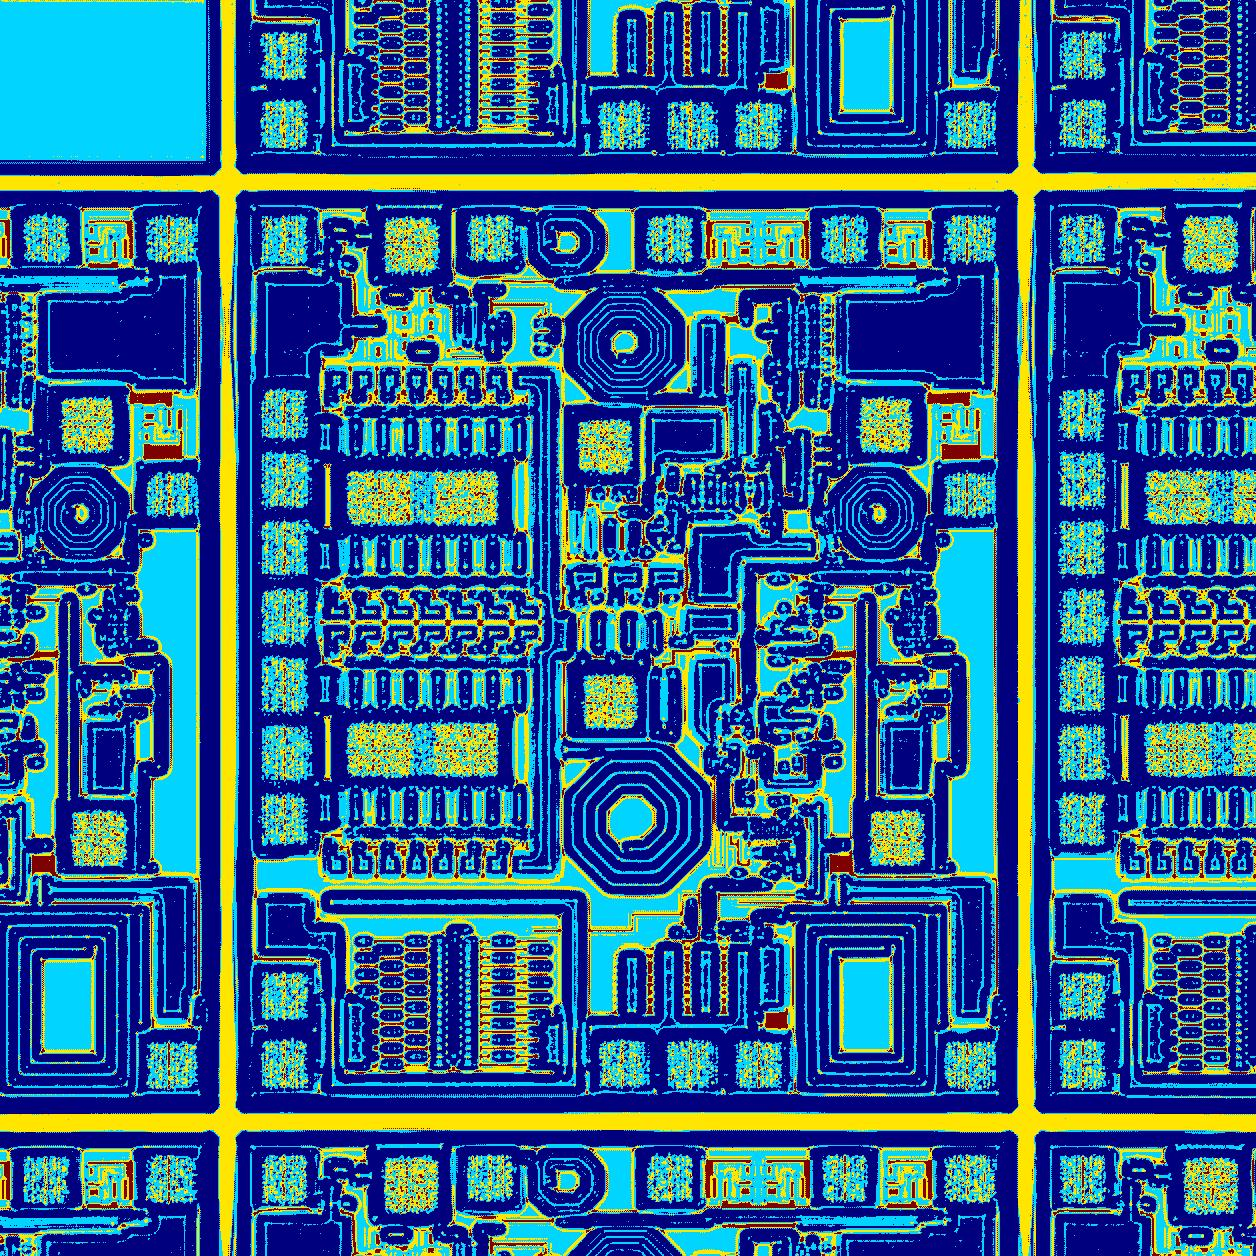Die: (235, 189, 1019, 1112)
Pad 1: (347, 722, 414, 778), (434, 722, 498, 778), (434, 472, 498, 527), (349, 472, 414, 524), (583, 674, 637, 730), (871, 811, 925, 866), (385, 216, 438, 273), (859, 397, 912, 453), (579, 420, 633, 473)
Pad 2: (262, 725, 313, 781), (261, 452, 308, 508), (261, 656, 308, 712), (262, 589, 309, 644), (599, 1040, 651, 1088), (262, 521, 308, 575), (667, 1041, 718, 1089), (261, 794, 308, 845), (945, 1042, 997, 1089), (945, 215, 996, 262), (261, 972, 309, 1020), (261, 1040, 308, 1089), (944, 473, 996, 518), (736, 1041, 782, 1089), (262, 216, 308, 265), (262, 389, 307, 438), (646, 216, 692, 263), (468, 215, 514, 262), (822, 216, 867, 262)
